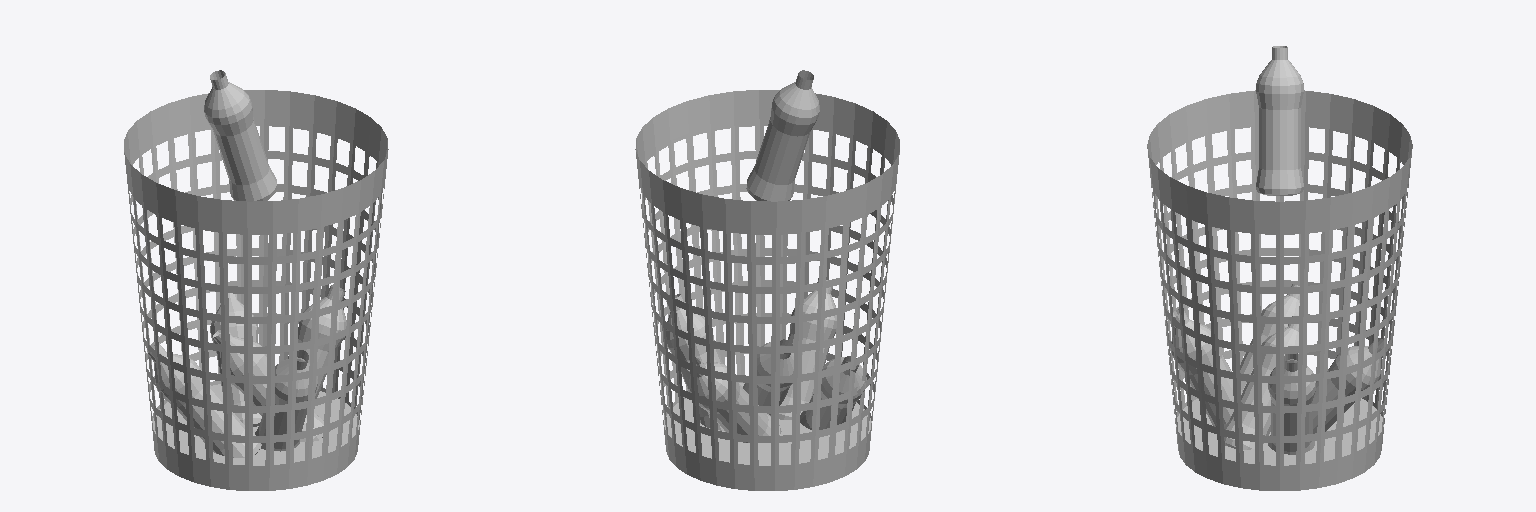
File: DustbinWithCan_000021.obj
3 views of the same model, side by side, from view 1: azimuth 30°, elevation 25°; view 2: azimuth 150°, elevation 25°; view 3: azimuth 270°, elevation 25° (orthographic).
Parts seen in each view (by area): view 1: Cylinder, Plane.006, Plane.005, Plane.001, Plane.003, Plane.004, Plane.002; view 2: Cylinder, Plane.006, Plane.001, Plane.002, Plane.005, Plane.003, Plane.004; view 3: Cylinder, Plane.006, Plane.001, Plane.004, Plane.003, Plane.002, Plane.005.
Part boxes in pixels (left/top/right/bottom): Cylinder: left=124, top=90, right=388, bottom=490; Plane.006: left=204, top=70, right=277, bottom=201; Plane.005: left=147, top=343, right=261, bottom=457; Plane.001: left=255, top=350, right=317, bottom=451; Plane.003: left=288, top=285, right=346, bottom=398; Plane.004: left=213, top=329, right=323, bottom=441; Plane.002: left=210, top=293, right=261, bottom=426; Cylinder: left=635, top=90, right=899, bottom=490; Plane.006: left=746, top=70, right=819, bottom=201; Plane.001: left=770, top=278, right=836, bottom=419; Plane.002: left=687, top=358, right=781, bottom=442; Plane.005: left=800, top=356, right=866, bottom=429; Plane.003: left=666, top=294, right=724, bottom=430; Plane.004: left=743, top=339, right=793, bottom=414; Cylinder: left=1147, top=90, right=1412, bottom=490; Plane.006: left=1256, top=46, right=1303, bottom=195; Plane.001: left=1171, top=309, right=1242, bottom=426; Plane.004: left=1224, top=316, right=1298, bottom=449; Plane.003: left=1268, top=353, right=1315, bottom=454; Plane.002: left=1313, top=338, right=1383, bottom=433; Plane.005: left=1240, top=284, right=1299, bottom=390.
Size of the model in its own units: 2.6 by 4.16 by 2.6.